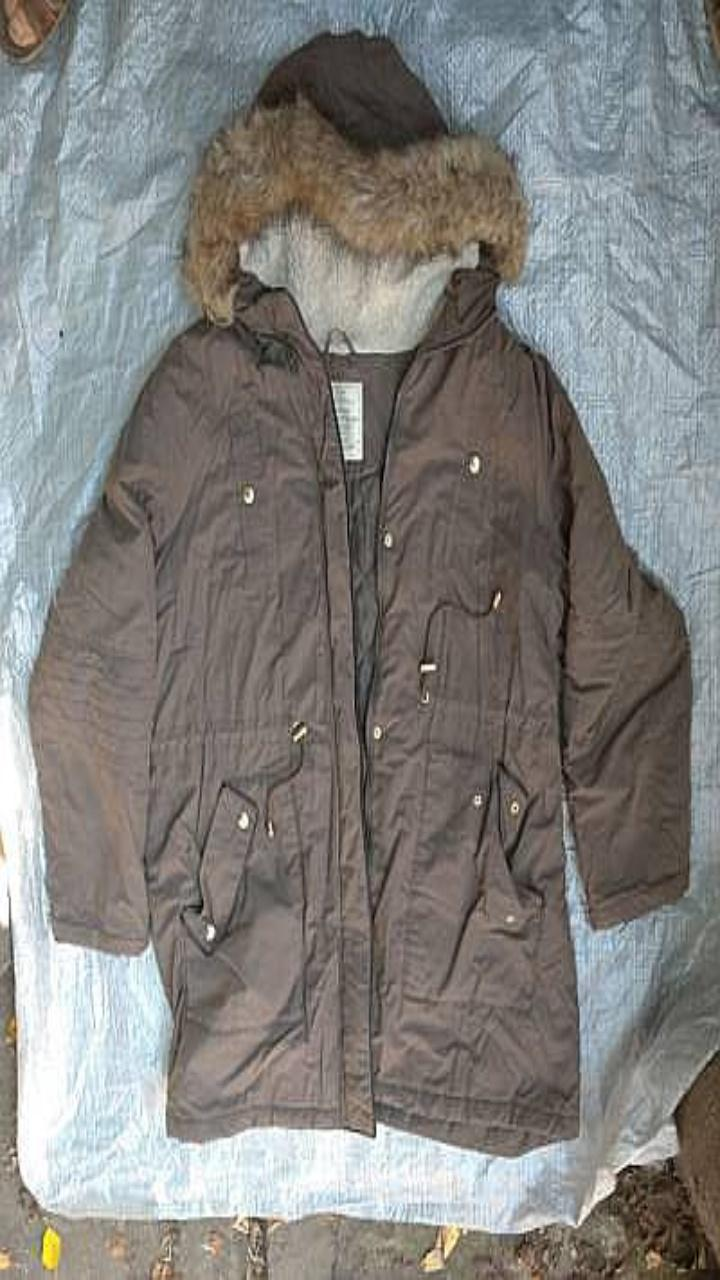Coat: (29, 30, 691, 1154)
